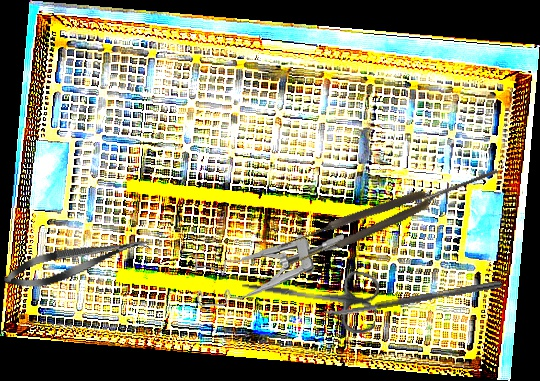Iris Scissors: (237, 257, 382, 336)
Micro Scissor: (0, 227, 153, 296)
Speculum: (193, 232, 348, 308)
Surgical Spoon: (321, 279, 503, 319)
Tissue Forceps: (279, 159, 503, 268)
